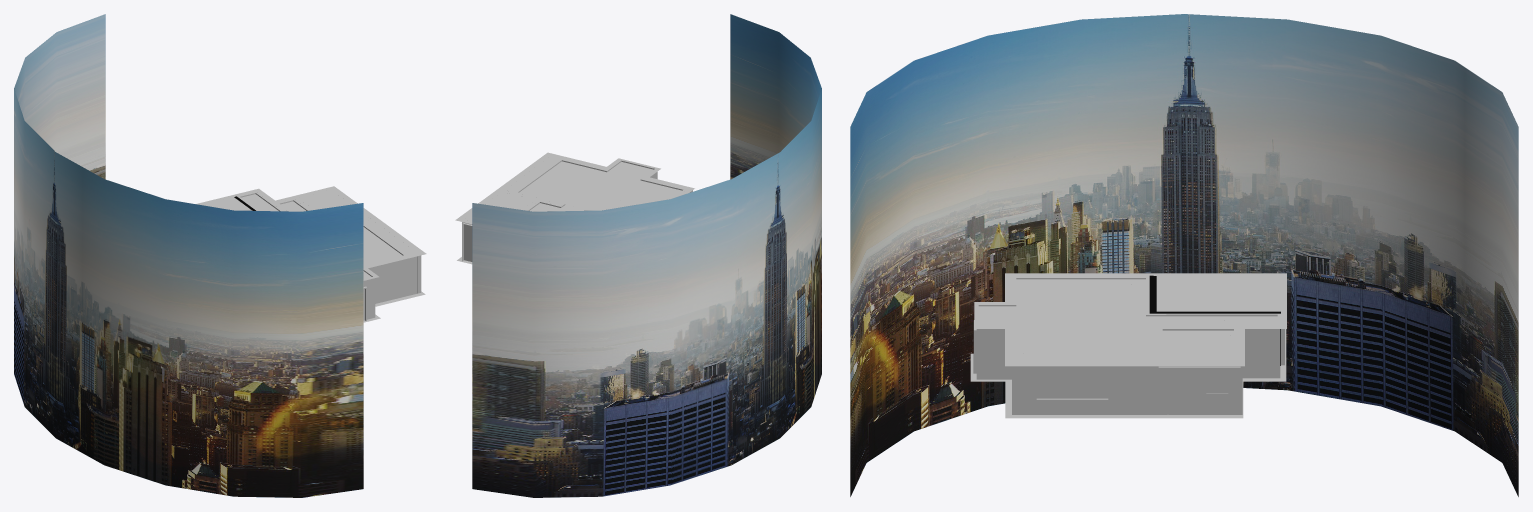
3 views of the same model, side by side, from view 1: azimuth 30°, elevation 25°; view 2: azimuth 150°, elevation 25°; view 3: azimuth 270°, elevation 25° (orthographic). The views are drawn at different scales.
Parts seen in each view (by area): view 1: SM_BG, ceiling1:polySurface1, SM_WallLiving_Q3_4; view 2: SM_BG, ceiling1:polySurface1; view 3: SM_BG, ceiling1:polySurface1, SM_KitchenBath_WALL, SM_HallFrames_miniCounter_SkirtingBoard, SM_Floor, SM_WallLiving_Q3_4, SM_WallLiving_q5.
Part boxes in pixels (box(x1,y1,x2,y2)): SM_BG: box(14, 14, 363, 497); ceiling1:polySurface1: box(195, 186, 426, 280); SM_WallLiving_Q3_4: box(363, 255, 421, 319); SM_BG: box(472, 14, 821, 497); ceiling1:polySurface1: box(455, 152, 694, 224); SM_BG: box(850, 14, 1518, 496); ceiling1:polySurface1: box(974, 273, 1286, 366); SM_KitchenBath_WALL: box(1012, 366, 1242, 414); SM_HallFrames_miniCounter_SkirtingBoard: box(1242, 329, 1284, 378); SM_Floor: box(970, 329, 1286, 418); SM_WallLiving_Q3_4: box(976, 329, 1011, 379); SM_WallLiving_q5: box(1149, 275, 1280, 365).
Bounding box in the file's own units: 2053 × 1861 × 3040.
